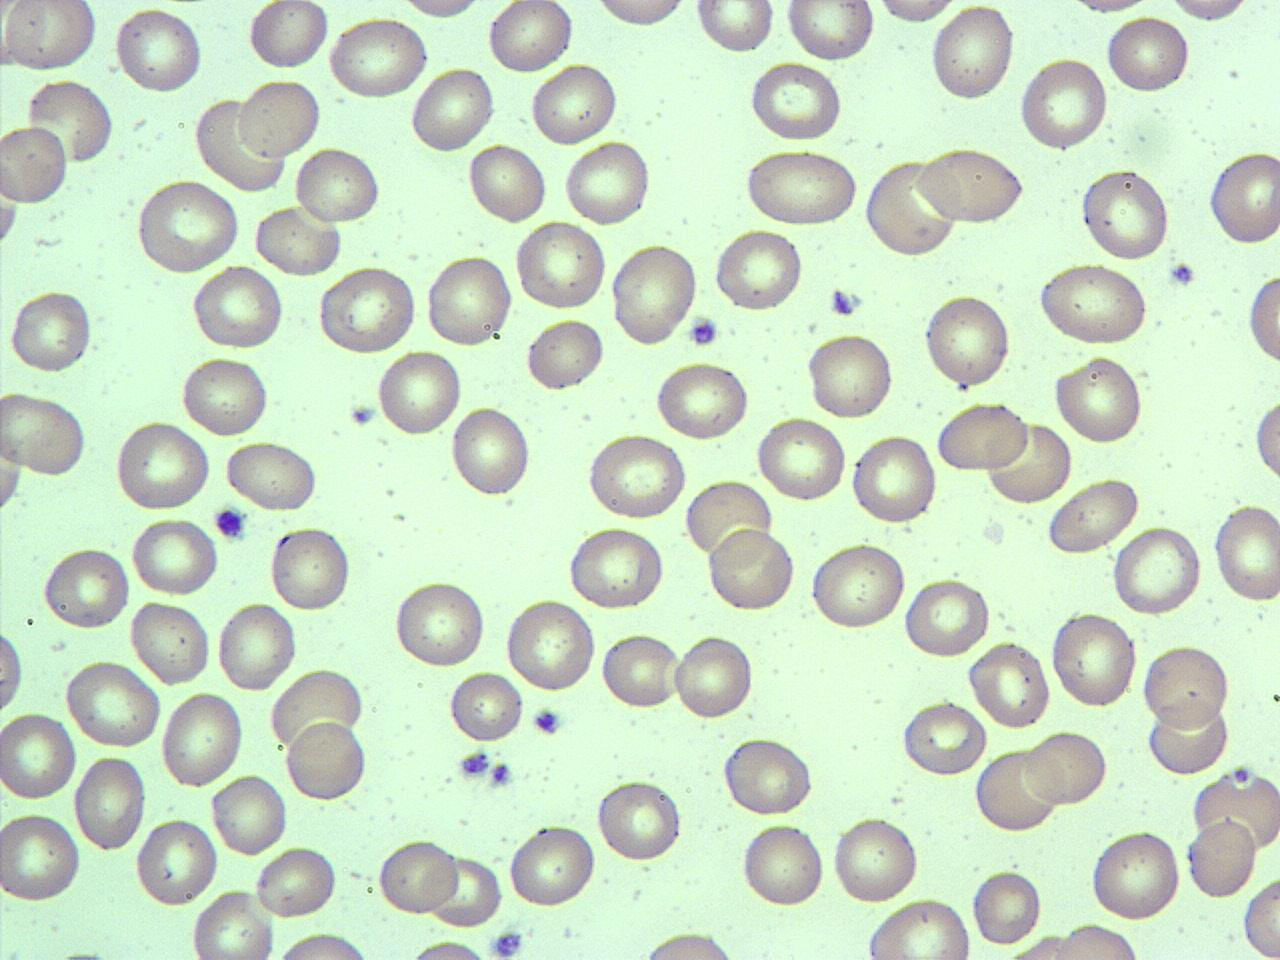Platelets: (211, 502, 249, 544), (686, 314, 722, 351), (489, 926, 526, 960), (530, 705, 564, 738), (826, 286, 860, 320), (457, 748, 492, 778), (347, 400, 379, 429), (488, 760, 514, 791)
RBC: (133, 177, 242, 276), (607, 241, 701, 349), (862, 156, 958, 259), (315, 262, 418, 357), (1037, 262, 1153, 346), (740, 146, 858, 228), (502, 594, 598, 694), (808, 541, 910, 634), (1047, 607, 1139, 711), (583, 432, 689, 520), (112, 418, 212, 513), (1087, 826, 1185, 922), (424, 250, 517, 350), (390, 577, 490, 670), (62, 658, 163, 750), (1051, 352, 1147, 448), (326, 14, 432, 100), (914, 145, 1026, 227), (565, 522, 667, 612), (1110, 522, 1204, 618), (1016, 55, 1110, 152), (1078, 165, 1172, 262), (922, 291, 1014, 390), (848, 431, 939, 528), (928, 3, 1016, 105), (512, 220, 608, 312), (158, 689, 246, 789), (112, 5, 206, 98), (190, 263, 287, 352), (653, 358, 754, 443), (1189, 764, 1280, 858), (374, 345, 464, 440), (720, 732, 816, 820), (804, 329, 896, 421), (23, 76, 117, 165), (504, 822, 598, 912), (682, 474, 778, 562), (712, 226, 807, 314), (747, 58, 846, 143), (447, 402, 532, 501), (562, 137, 654, 228), (528, 59, 621, 149), (594, 776, 686, 866), (830, 813, 920, 906), (754, 414, 848, 503), (214, 598, 299, 694), (973, 742, 1061, 834), (1, 388, 90, 480), (1141, 641, 1233, 730), (409, 64, 498, 155), (738, 820, 826, 912), (703, 526, 796, 614), (984, 418, 1074, 507), (39, 545, 132, 631), (5, 288, 98, 375), (132, 816, 218, 910), (1044, 474, 1142, 556), (966, 638, 1052, 730), (268, 520, 353, 614), (177, 354, 273, 437), (1, 807, 82, 905), (234, 75, 323, 162), (672, 632, 758, 723), (127, 596, 212, 688), (0, 706, 79, 804), (465, 138, 550, 228), (222, 437, 321, 514), (1103, 12, 1191, 98), (72, 753, 147, 853), (1206, 146, 1280, 248), (292, 145, 384, 226), (932, 400, 1031, 474), (284, 718, 369, 804), (902, 578, 992, 658), (898, 698, 988, 778), (129, 516, 219, 596), (0, 1, 100, 73), (210, 770, 290, 858), (1211, 500, 1279, 604), (484, 0, 577, 76), (861, 898, 975, 960), (599, 630, 684, 712), (376, 836, 462, 918), (252, 841, 339, 922), (251, 203, 343, 277), (524, 313, 606, 395), (1026, 729, 1108, 808), (447, 666, 526, 746), (1185, 813, 1257, 901), (245, 0, 331, 73), (0, 120, 71, 208), (190, 886, 274, 960), (970, 866, 1044, 948), (782, 0, 878, 63), (430, 851, 505, 930), (691, 0, 777, 56), (626, 928, 752, 959), (1049, 922, 1147, 959), (1240, 872, 1280, 958), (588, 0, 694, 32), (269, 930, 382, 960), (1247, 267, 1279, 371), (1251, 390, 1279, 488), (0, 616, 26, 720), (1161, 0, 1257, 27), (871, 0, 963, 28), (399, 937, 499, 960)
